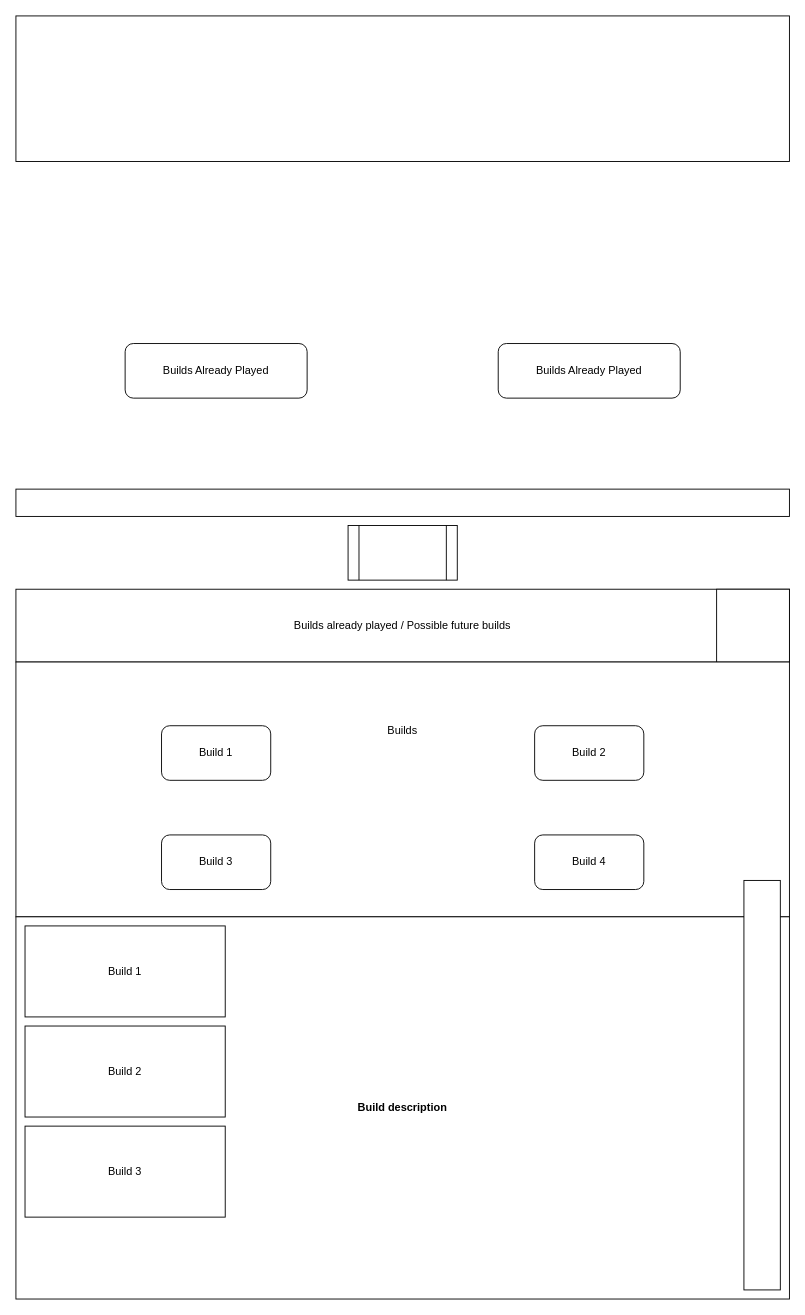
This 805x1315 diagram has some shape labels left out. The centre of each missing label's shape, as x and y in pixels:
"Home page button" belongs at (x=752, y=625).
"Main Pages" belongs at (x=402, y=552).
"Moving Page up button" belongs at (x=761, y=1085).
"Path of Exile Ritual League Builds" belongs at (x=402, y=88).
"References About Contact Info" belongs at (x=402, y=502).
